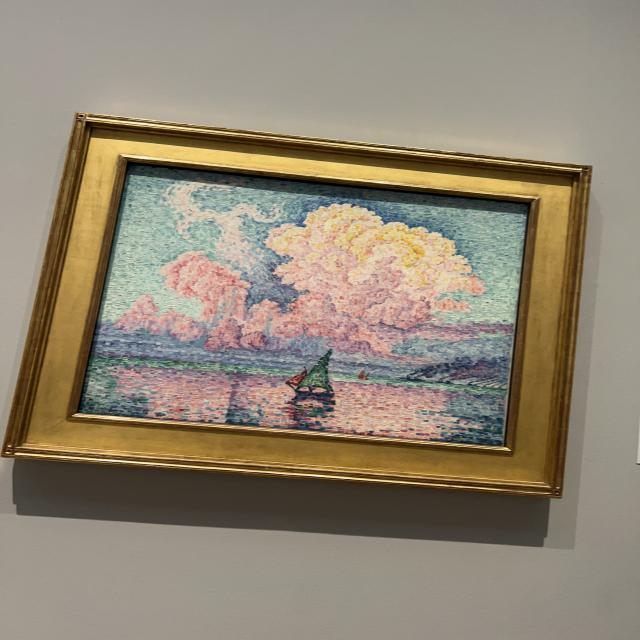sunrise: (85, 173, 523, 443)
